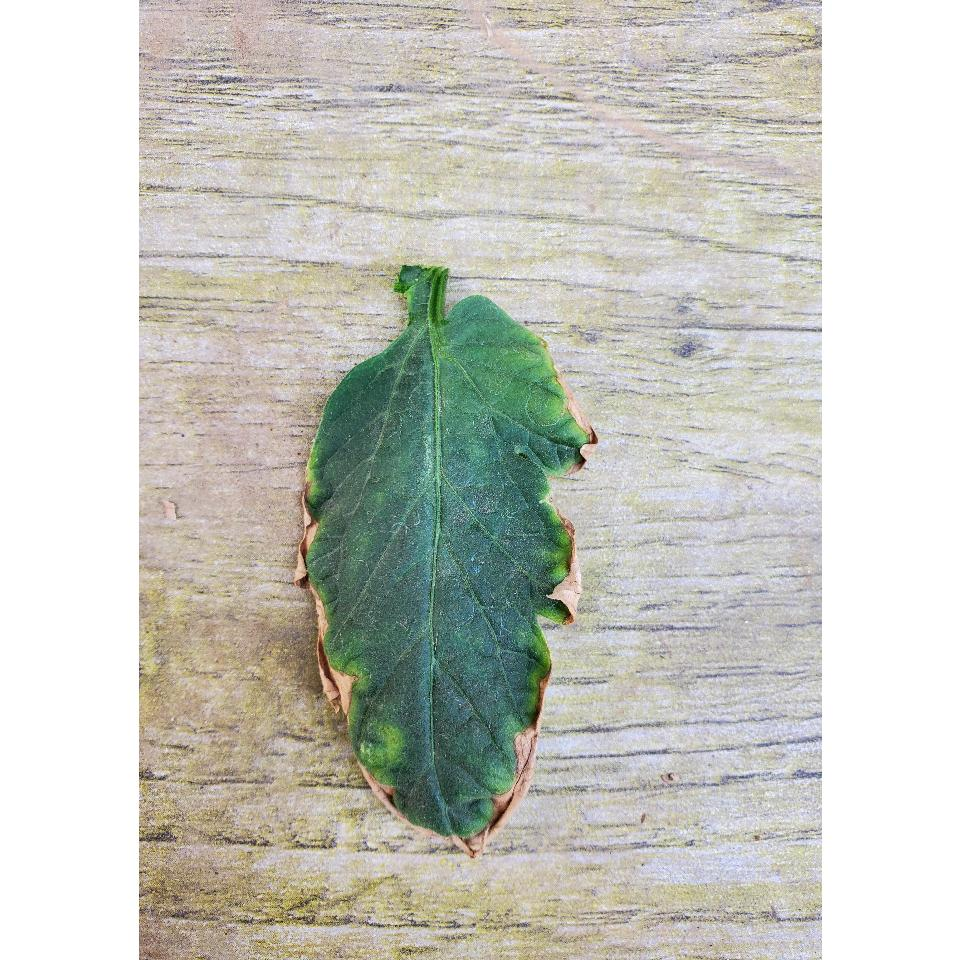tomato_bacterial_blight: (284, 222, 612, 869)
